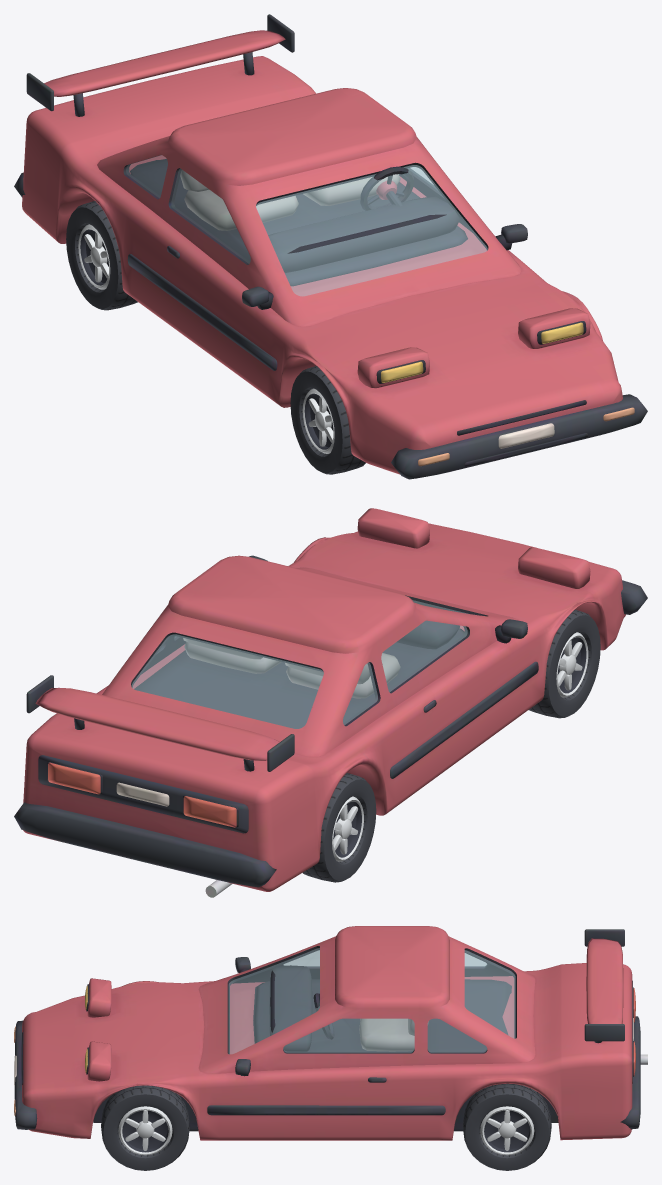
Rendered from 1980s-sports-car.glb.
3 views of the same model, one above another, from view 1: azimuth 30°, elevation 25°; view 2: azimuth 150°, elevation 25°; view 3: azimuth 270°, elevation 25° (orthographic). The views are drawn at different scales.
Visible parts, largest first — view 1: 1980s-sports-car_body, 1980s-sports-car_windows, 1980s-sports-car_wheel_fr, 1980s-sports-car_wheel_rr; view 2: 1980s-sports-car_body, 1980s-sports-car_windows, 1980s-sports-car_wheel_rr, 1980s-sports-car_wheel_fr; view 3: 1980s-sports-car_body, 1980s-sports-car_windows, 1980s-sports-car_wheel_rl, 1980s-sports-car_wheel_fl.
Part boxes in pixels (bbox=[...]): 1980s-sports-car_body: bbox=[14, 14, 647, 479]; 1980s-sports-car_windows: bbox=[126, 155, 487, 296]; 1980s-sports-car_wheel_fr: bbox=[290, 366, 365, 474]; 1980s-sports-car_wheel_rr: bbox=[66, 201, 137, 310]; 1980s-sports-car_body: bbox=[14, 508, 647, 897]; 1980s-sports-car_windows: bbox=[132, 600, 467, 728]; 1980s-sports-car_wheel_rr: bbox=[303, 773, 376, 882]; 1980s-sports-car_wheel_fr: bbox=[529, 609, 600, 718]; 1980s-sports-car_body: bbox=[14, 926, 647, 1140]; 1980s-sports-car_windows: bbox=[229, 948, 515, 1053]; 1980s-sports-car_wheel_rl: bbox=[462, 1083, 551, 1170]; 1980s-sports-car_wheel_fl: bbox=[101, 1085, 189, 1170].
Size of the model in its own units: 1.83 by 1.23 by 4.42.
Materials: 6 (2 with a texture image).
